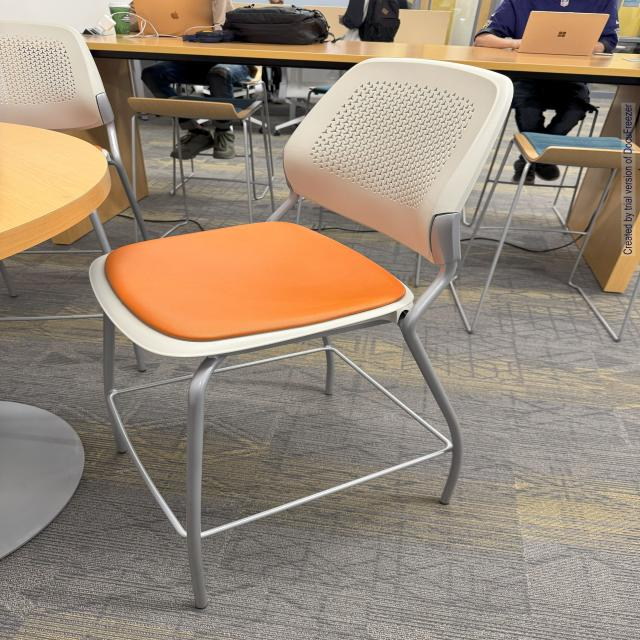chair: (90, 51, 530, 603)
